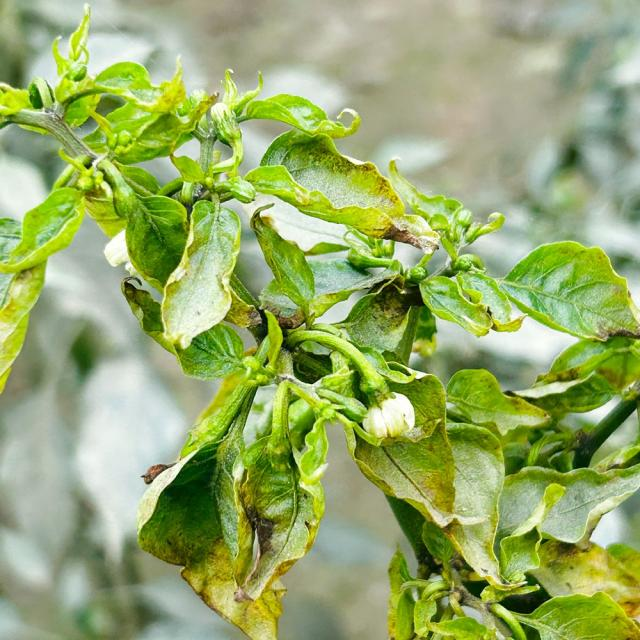Chilli_Leaf_Curl: (1, 3, 638, 638), (251, 127, 440, 255), (496, 239, 638, 342), (158, 196, 242, 351)
